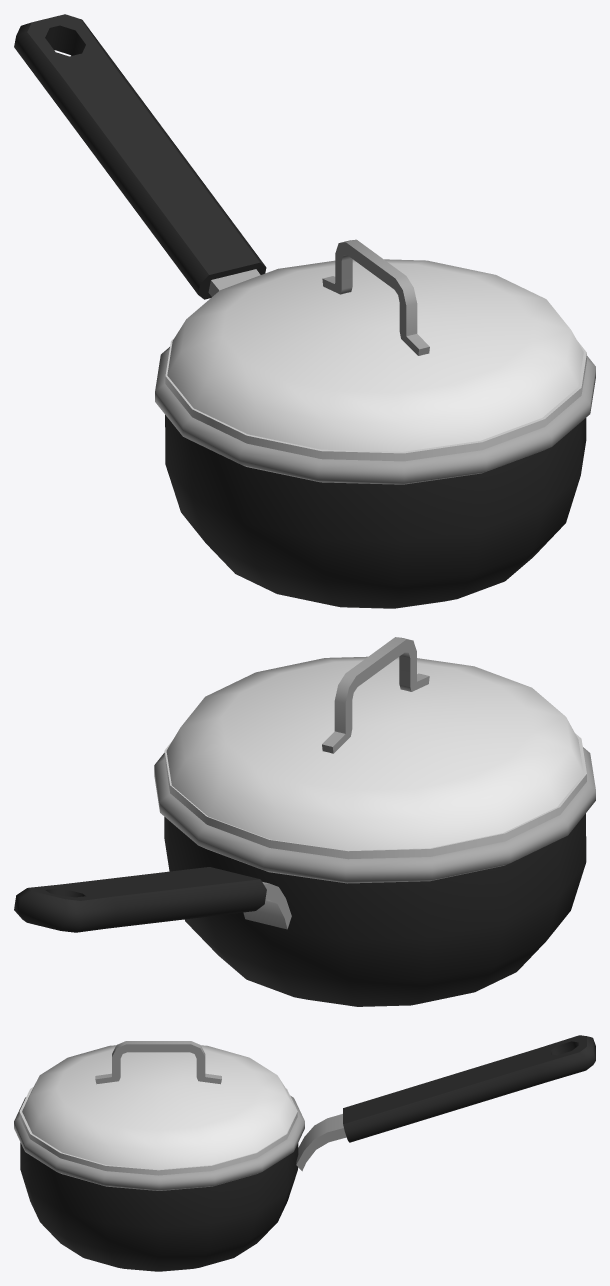
File: Saucier_01.fbx
3 views of the same model, one above another, from view 1: azimuth 30°, elevation 25°; view 2: azimuth 150°, elevation 25°; view 3: azimuth 270°, elevation 25° (orthographic). The views are drawn at different scales.
Visible parts, largest first — view 1: Saucier_01, Saucier_01_Lid; view 2: Saucier_01_Lid, Saucier_01; view 3: Saucier_01, Saucier_01_Lid.
Boxes of the visible parts, bbox=[...] form: Saucier_01: bbox=[14, 14, 595, 608]; Saucier_01_Lid: bbox=[165, 239, 586, 461]; Saucier_01_Lid: bbox=[164, 637, 586, 859]; Saucier_01: bbox=[14, 747, 595, 1006]; Saucier_01: bbox=[14, 1035, 595, 1271]; Saucier_01_Lid: bbox=[19, 1041, 297, 1175].
Bounding box in the file's own units: 0.2684 × 0.1956 × 0.5367.
